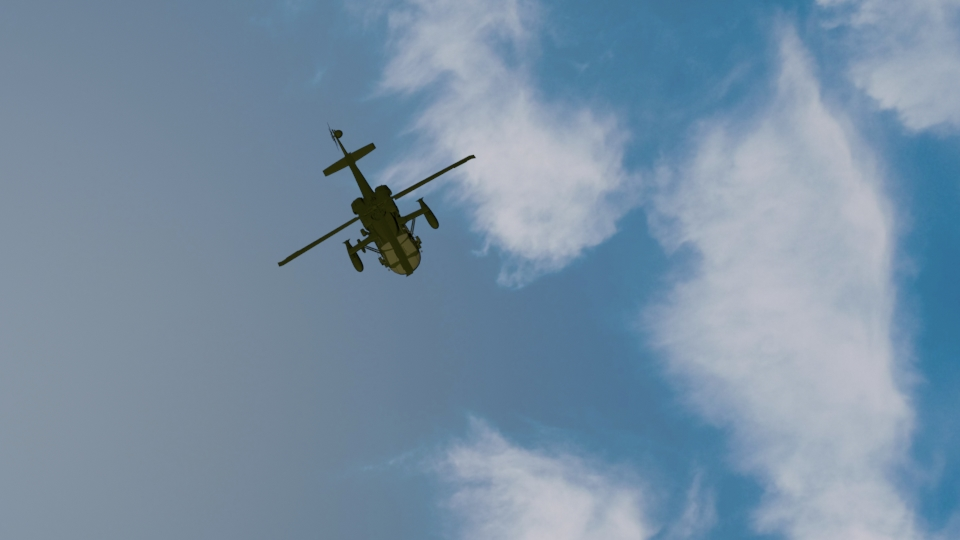heli: (277, 125, 475, 276)
